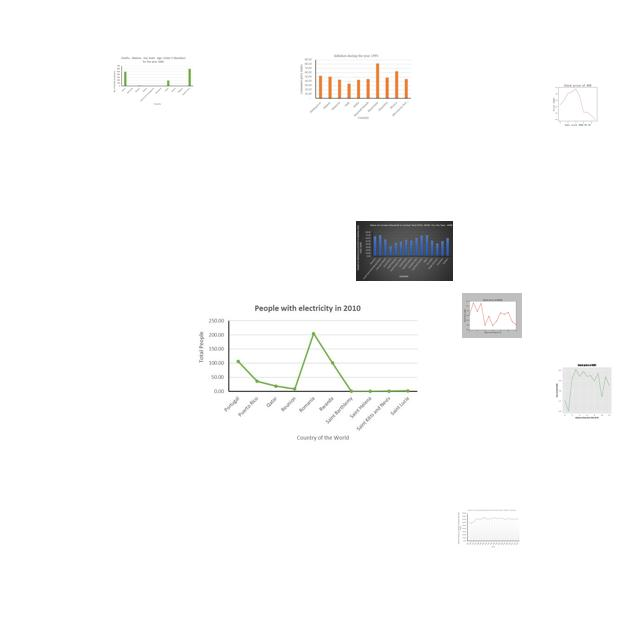Graph: (194, 299, 423, 448), (300, 53, 413, 120), (356, 221, 453, 281), (546, 360, 626, 420), (112, 55, 194, 106), (462, 293, 522, 338), (457, 508, 521, 548), (548, 82, 606, 126)
